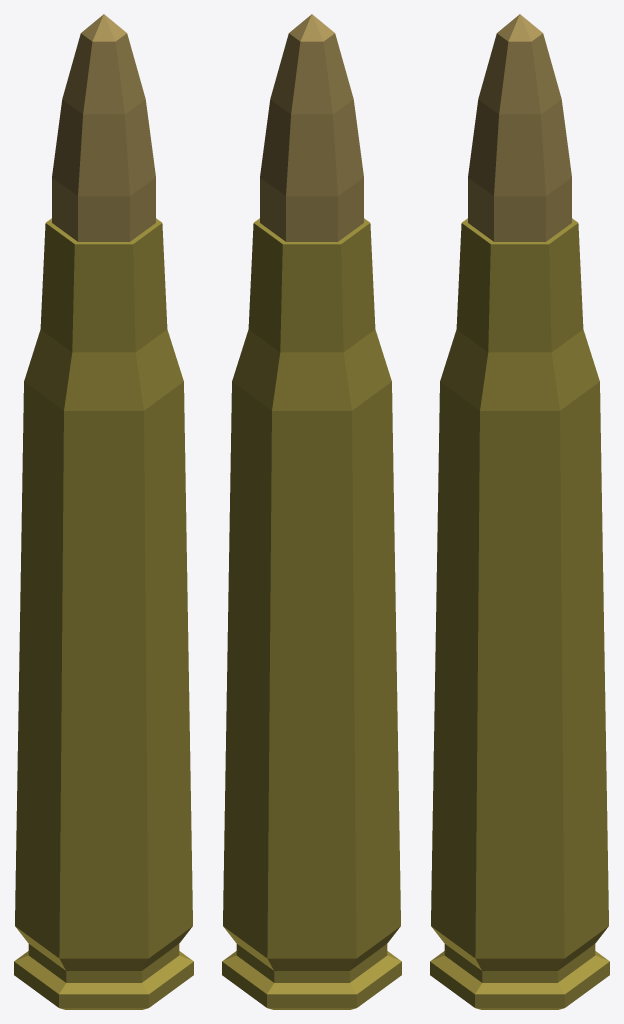
The model's file is MW1_Ammunition_5.56mm_01.fbx.
The picture shows the model from 3 angles, left to right: view 1: azimuth 30°, elevation 25°; view 2: azimuth 150°, elevation 25°; view 3: azimuth 270°, elevation 25°; orthographic projection.
Visible parts, largest first — view 1: Ammunition_5.56mm_01; view 2: Ammunition_5.56mm_01; view 3: Ammunition_5.56mm_01.
Part boxes in pixels (left/top/right/bottom): Ammunition_5.56mm_01: left=14, top=14, right=193, bottom=1009; Ammunition_5.56mm_01: left=222, top=14, right=401, bottom=1009; Ammunition_5.56mm_01: left=430, top=14, right=609, bottom=1009.
Bounding box in the file's own units: 0.8314 × 5.7 × 0.96.
